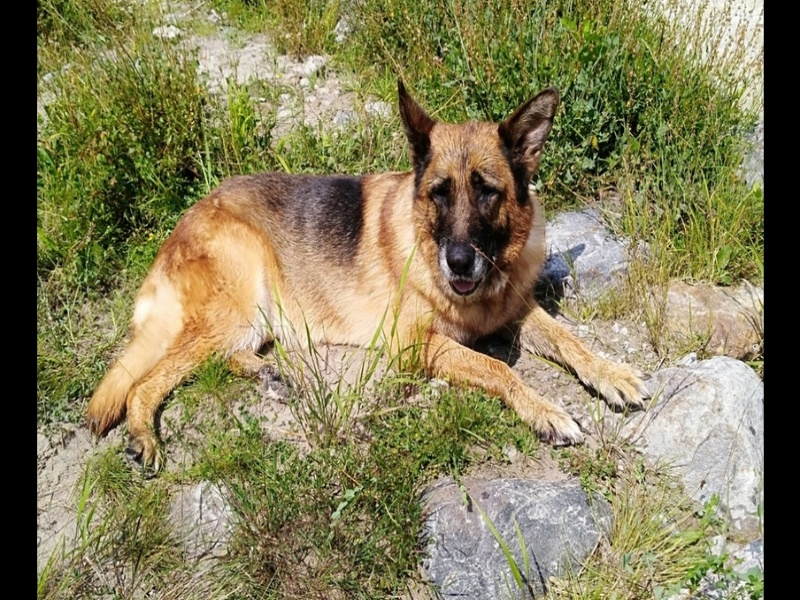dog: (82, 81, 650, 479)
